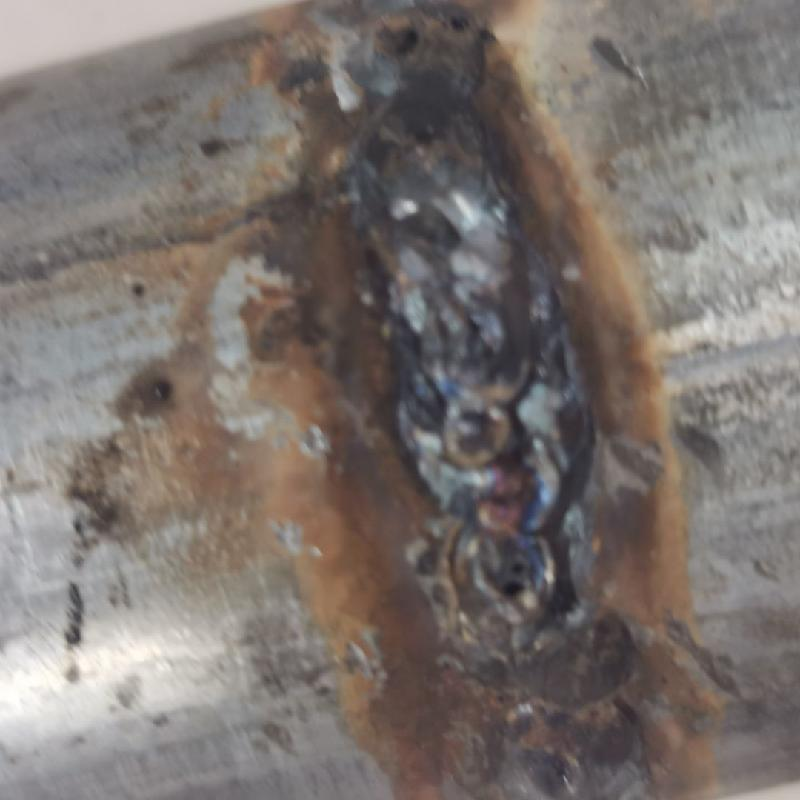Surface_pores: (383, 10, 473, 65), (487, 555, 541, 601)
crater: (383, 281, 559, 612)
wrong_size: (317, 10, 523, 252), (500, 625, 663, 799)
